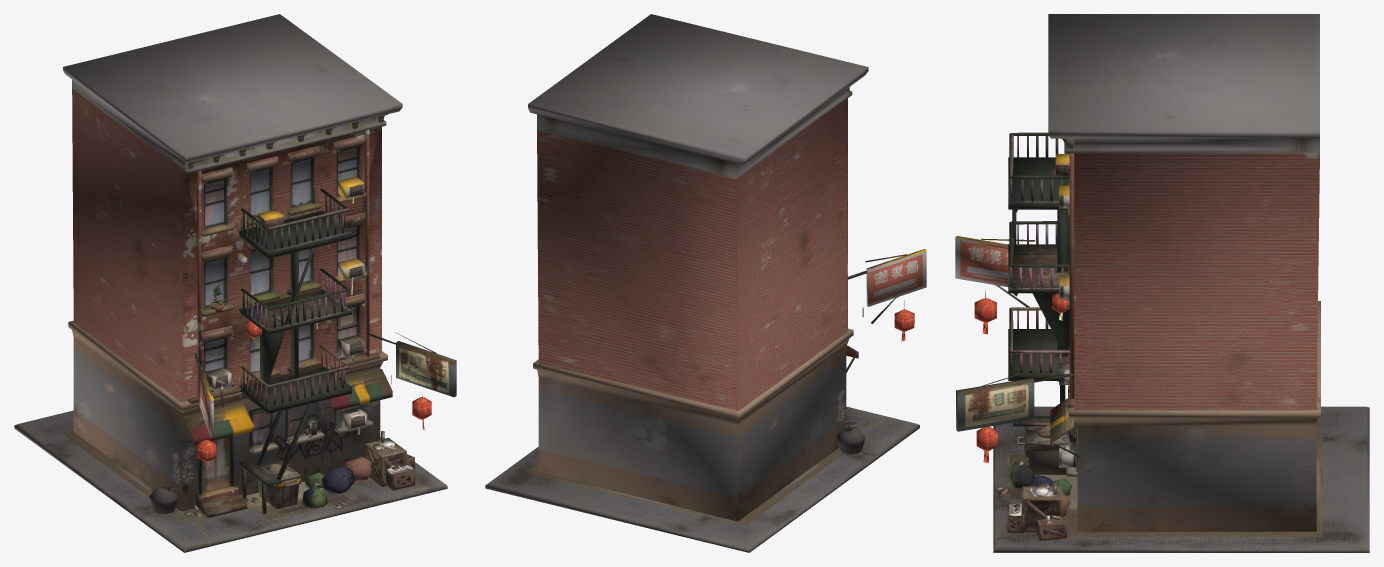
The picture shows the model from 3 angles, left to right: view 1: azimuth 30°, elevation 25°; view 2: azimuth 150°, elevation 25°; view 3: azimuth 270°, elevation 25°; orthographic projection. The views are drawn at different scales.
Parts seen in each view (by area): view 1: tripo_node_23b78e34-9f11-488b-80cd-9d737eae0c15; view 2: tripo_node_23b78e34-9f11-488b-80cd-9d737eae0c15; view 3: tripo_node_23b78e34-9f11-488b-80cd-9d737eae0c15.
Boxes of the visible parts, x1,y1,x2,y2 form: tripo_node_23b78e34-9f11-488b-80cd-9d737eae0c15: (14, 14, 456, 552); tripo_node_23b78e34-9f11-488b-80cd-9d737eae0c15: (485, 14, 926, 552); tripo_node_23b78e34-9f11-488b-80cd-9d737eae0c15: (955, 14, 1369, 552).
Size of the model in its own units: 0.7402 by 0.998 by 0.9121.
1 material, 1 textured.
